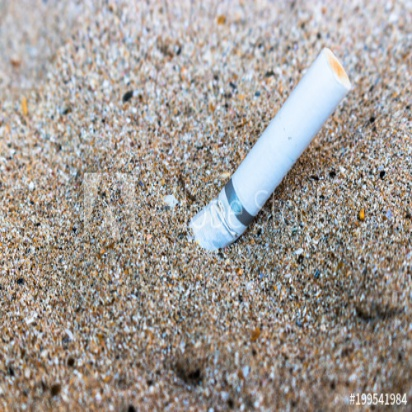cigarette: (185, 39, 354, 257)
